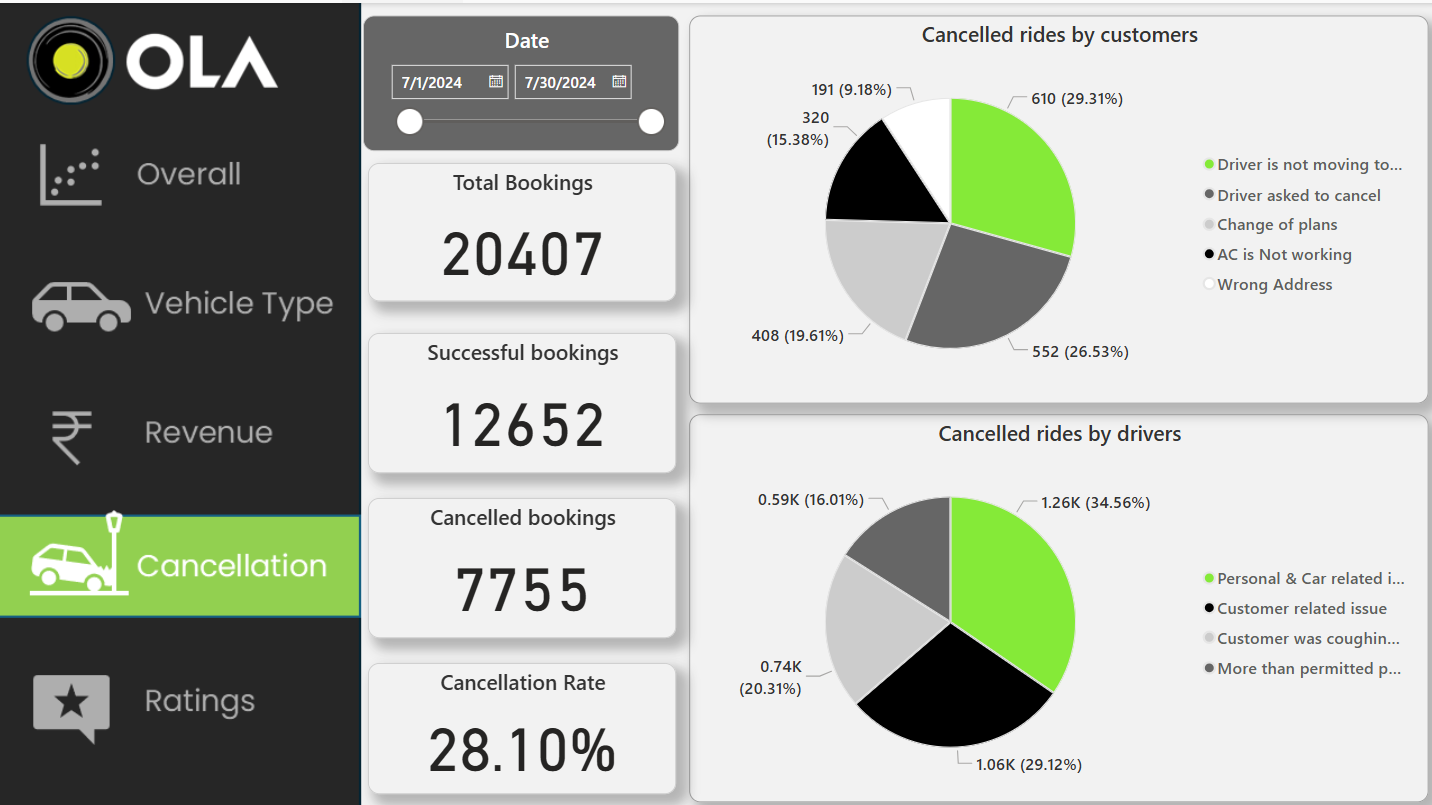

What the dashboard file says about the page in this screenshot:
{"tool":"powerbi","page":{"name":"Cancellation","canvas":[1280,720],"ordinal":3},"visuals":[{"type":"actionButton","box":[0,220.8,324.5,90.5],"z":0},{"type":"actionButton","box":[0,340.2,324.5,90.5],"z":1000},{"type":"actionButton","box":[0,579.1,324.5,90.5],"z":2000},{"type":"actionButton","box":[0,111,324.5,90.5],"z":3000},{"type":"pieChart","title":"Cancelled rides by customers","fields":{"Category":["Ola_bookings.Canceled_Rides_by_Customer"],"Y":["CountNonNull(Ola_bookings.Canceled_Rides_by_Customer)"]},"box":[616.1,11,658.7,345.8],"z":3001},{"type":"pieChart","title":"Cancelled rides by drivers","fields":{"Category":["Ola_bookings.Canceled_Rides_by_Driver"],"Y":["CountNonNull(Ola_bookings.Canceled_Rides_by_Driver)"]},"box":[616.1,366.4,658.7,345.8],"z":3002},{"type":"slicer","title":"Date","fields":{"Values":["Ola_bookings.Date"]},"box":[325.2,11,281.3,120.8],"z":3003},{"type":"card","title":"Total Bookings","fields":{"Values":["CountNonNull(Ola_bookings.Booking_ID)"]},"box":[329.3,142.7,274.4,123.5],"z":3004},{"type":"card","title":"Successful bookings","fields":{"Values":["CountNonNull(Ola_bookings.Booking_ID)"]},"box":[329.3,293.7,274.4,124.9],"z":3005},{"type":"card","title":"Cancelled bookings","fields":{"Values":["CountNonNull(Ola_bookings.Booking_ID)"]},"box":[329.3,440.5,274.4,124.9],"z":3006},{"type":"card","title":"Cancellation Rate","fields":{"Values":["Ola_bookings.Cancael_Rate"]},"box":[329.3,587.3,274.4,116.6],"z":3007}]}

Visuals, with their boxes on the page's 1280x720 design canvas (x1, y1, x2, y2). These are canvas units, not pixel positions in the 1432x805 screenshot, which may show the page scaled, cropped or inside an application window:
actionButton: <box>0,221,324,311</box>
actionButton: <box>0,340,324,431</box>
actionButton: <box>0,579,324,670</box>
actionButton: <box>0,111,324,202</box>
"Cancelled rides by customers" pieChart: <box>616,11,1275,357</box>
"Cancelled rides by drivers" pieChart: <box>616,366,1275,712</box>
"Date" slicer: <box>325,11,606,132</box>
"Total Bookings" card: <box>329,143,604,266</box>
"Successful bookings" card: <box>329,294,604,419</box>
"Cancelled bookings" card: <box>329,440,604,565</box>
"Cancellation Rate" card: <box>329,587,604,704</box>
